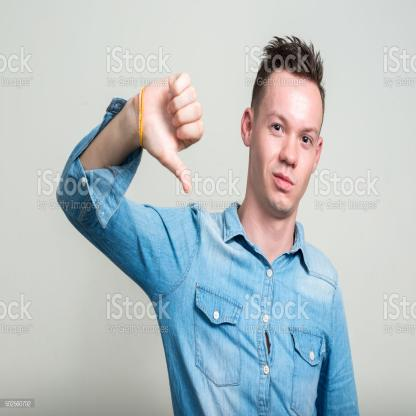Thumbs-Up: (128, 47, 214, 205)
